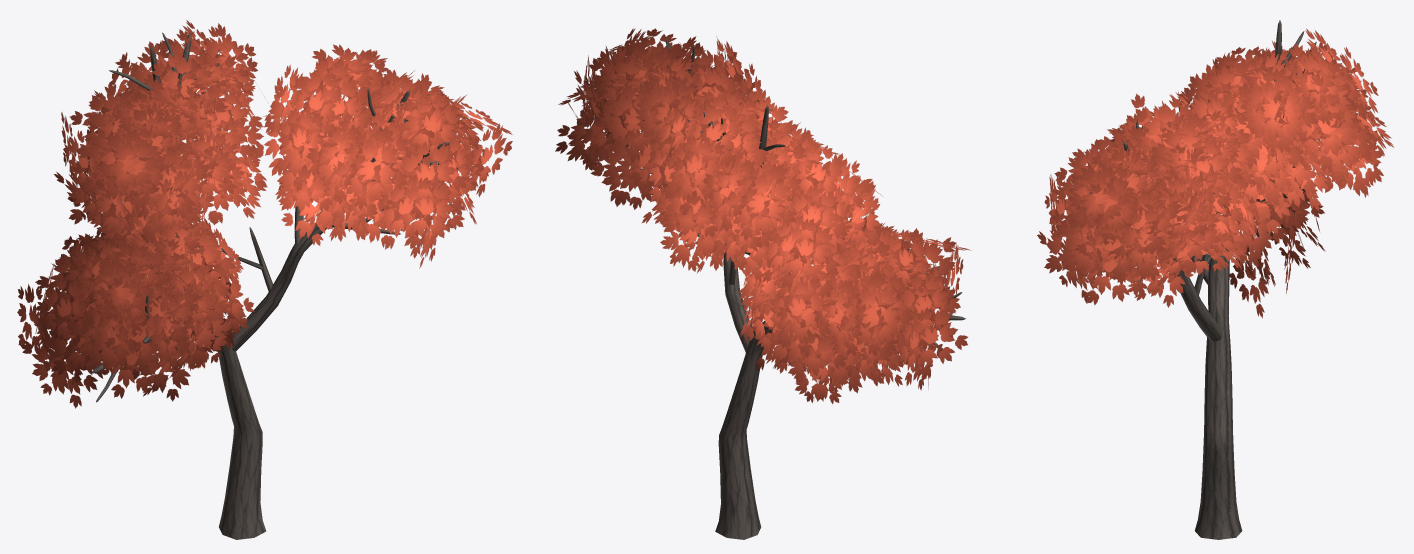
The model's file is bgmaple5.glb.
3 renders of one model, left to right at view 1: azimuth 30°, elevation 25°; view 2: azimuth 150°, elevation 25°; view 3: azimuth 270°, elevation 25°, orthographic. The views are drawn at different scales.
Visible parts, largest first — view 1: MapleTree_5; view 2: MapleTree_5; view 3: MapleTree_5.
Boxes of the visible parts, x1=… form: MapleTree_5: x1=17, y1=20, x2=512, y2=539; MapleTree_5: x1=555, y1=28, x2=970, y2=539; MapleTree_5: x1=1037, y1=20, x2=1394, y2=539.
Size of the model in its own units: 7.01 by 7.28 by 5.08.
Materials: 2 (2 with a texture image).
